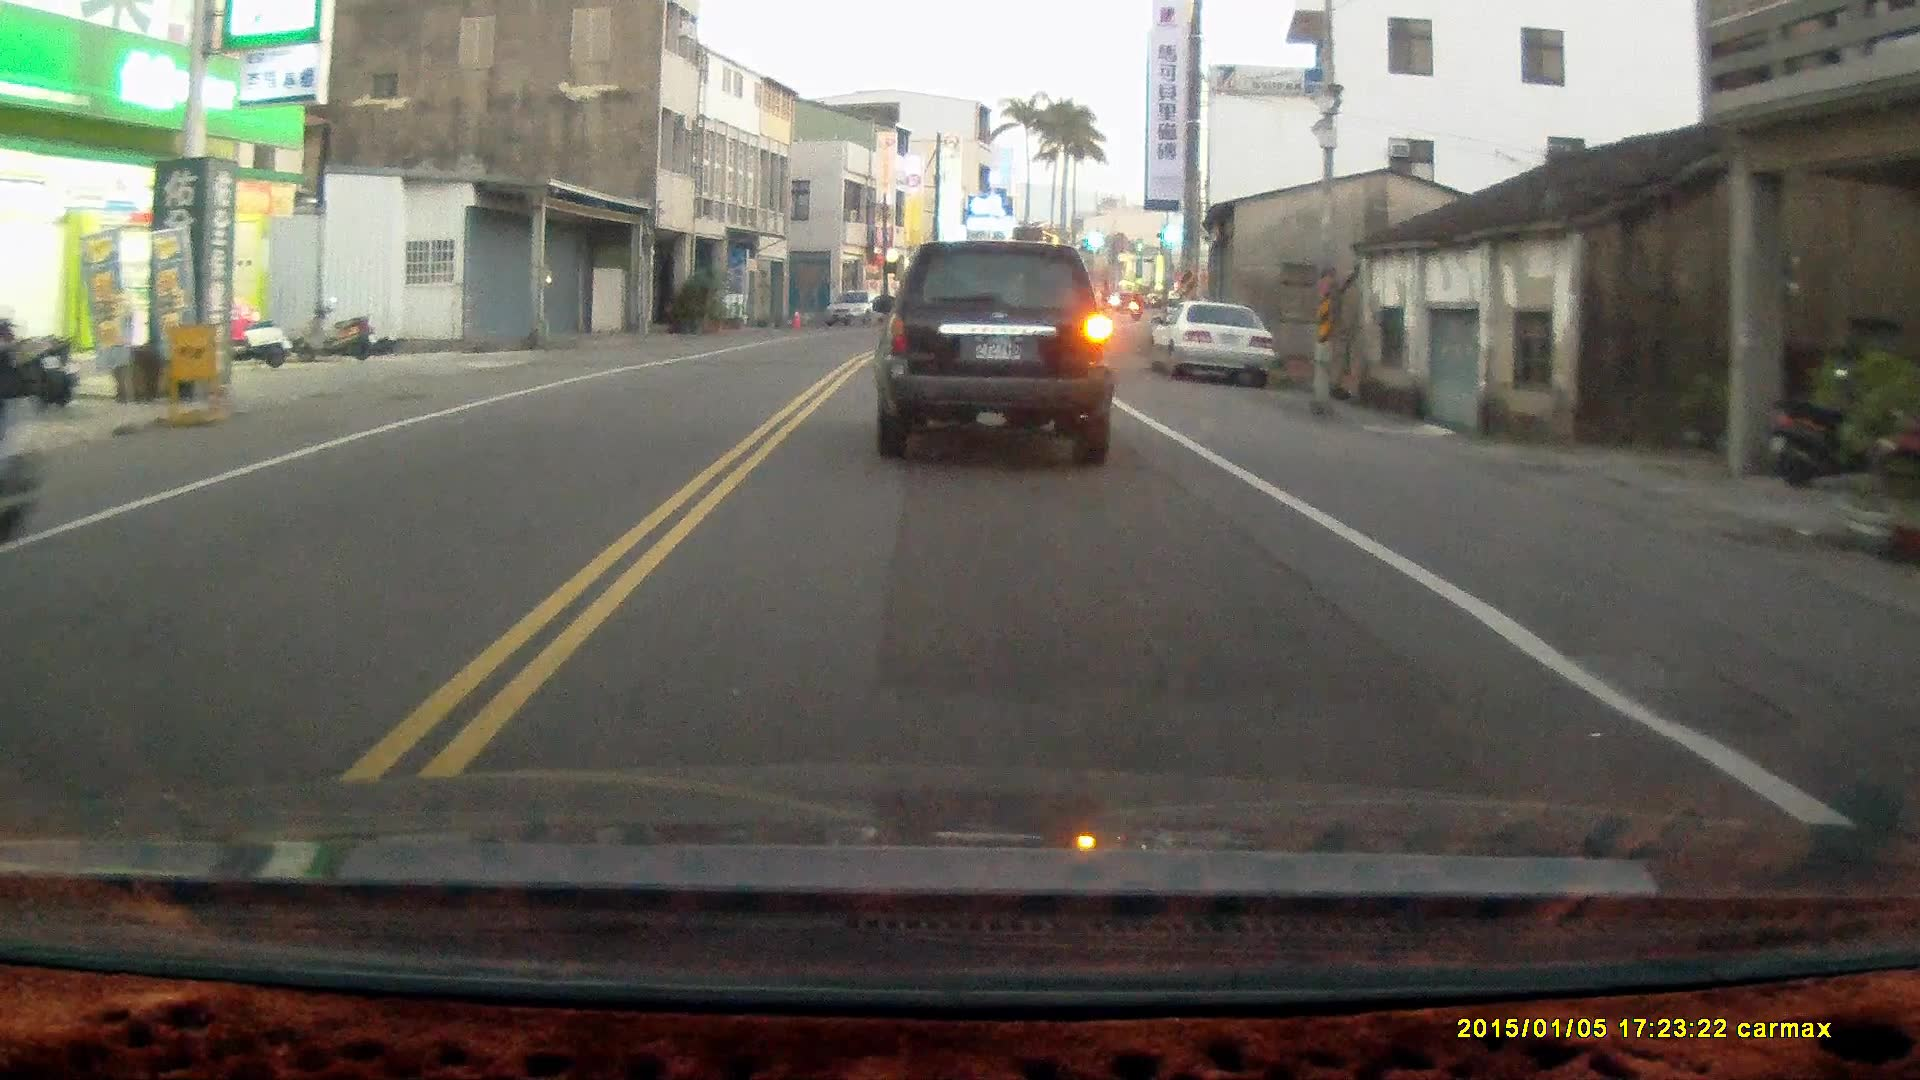vehicle: (876, 235, 1121, 465), (1153, 303, 1274, 388), (825, 294, 887, 338)
